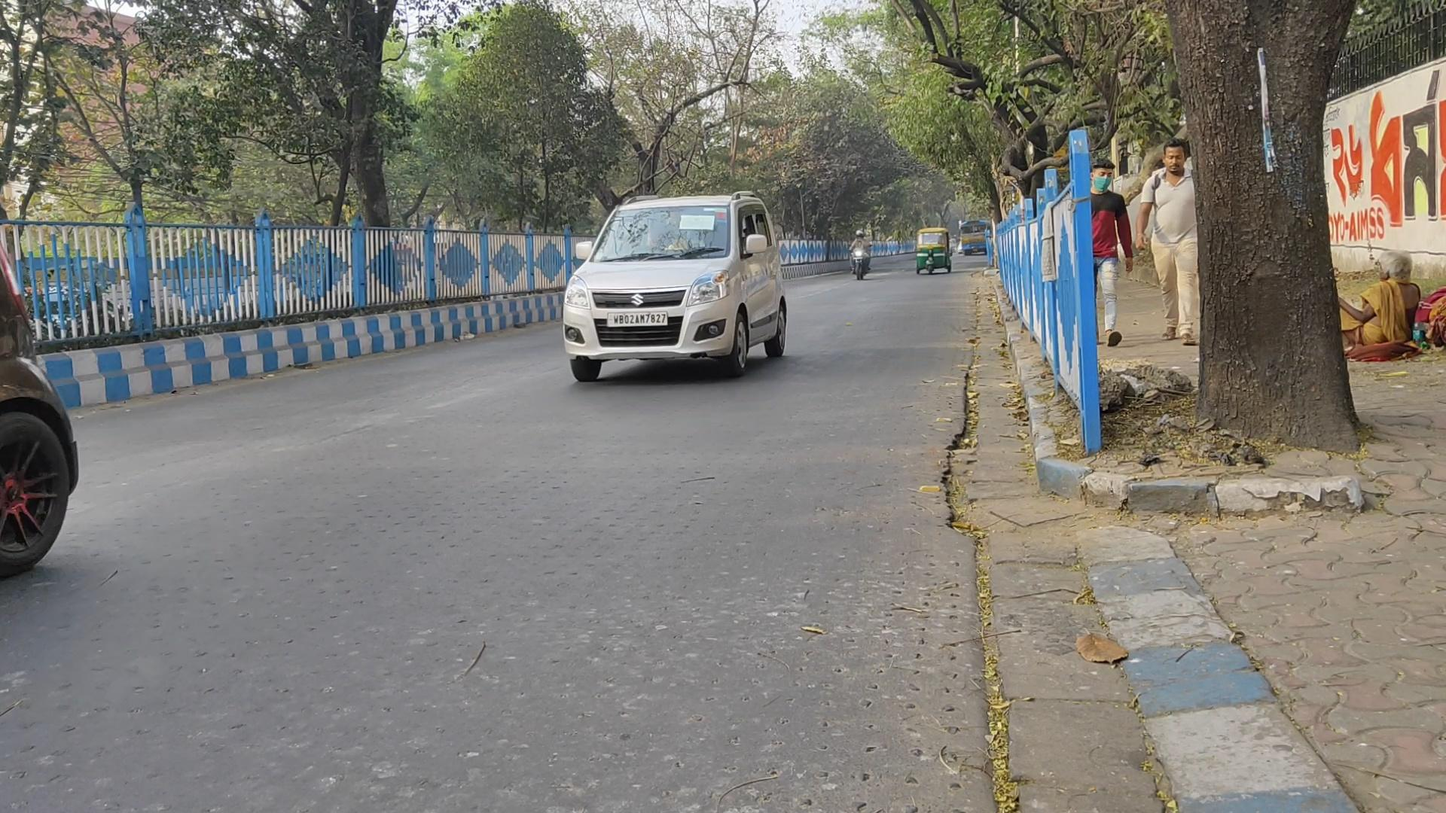Auto: (914, 226, 952, 276)
Bus: (959, 218, 991, 256)
bike: (847, 227, 871, 282)
car: (562, 190, 788, 383)
